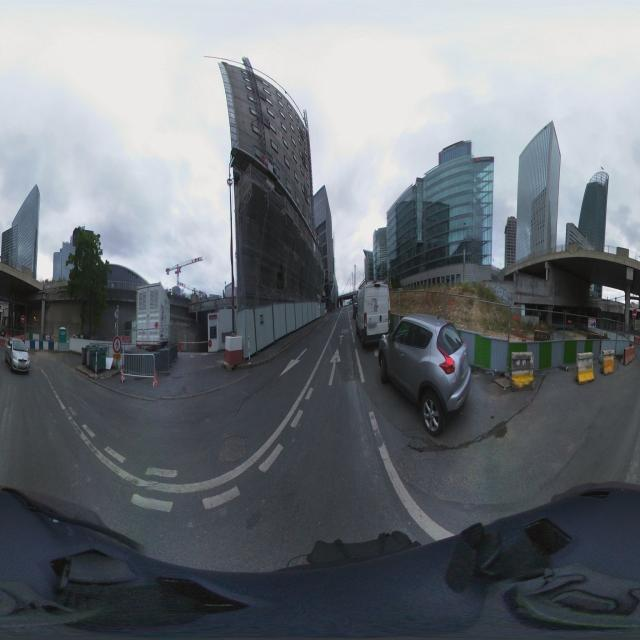forb_stopping: (593, 321, 595, 327)
